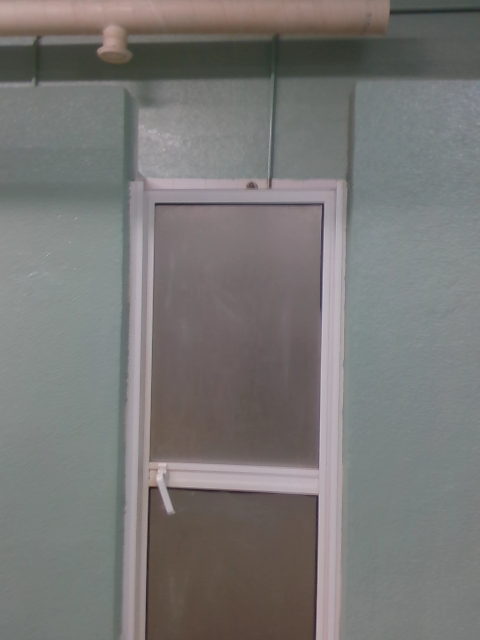closed: (118, 184, 351, 637)
